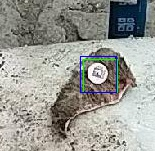text: (83, 59, 117, 92)
